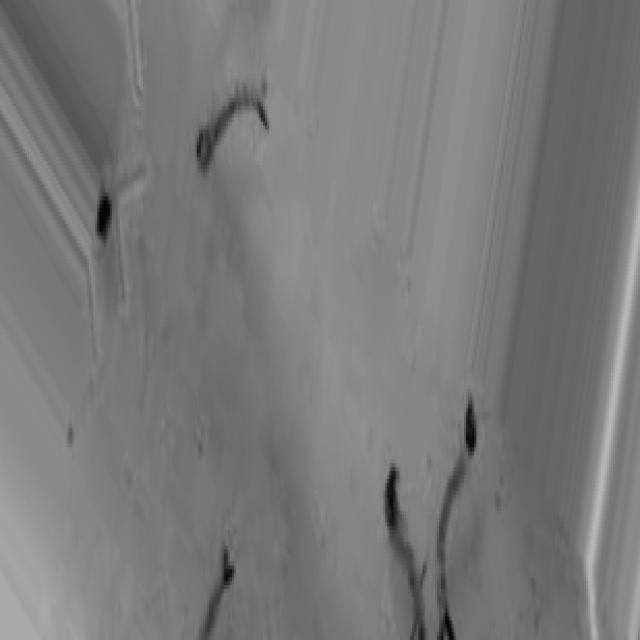larvas: (437, 396, 476, 640), (384, 463, 428, 640), (194, 90, 270, 164), (201, 538, 232, 640)
